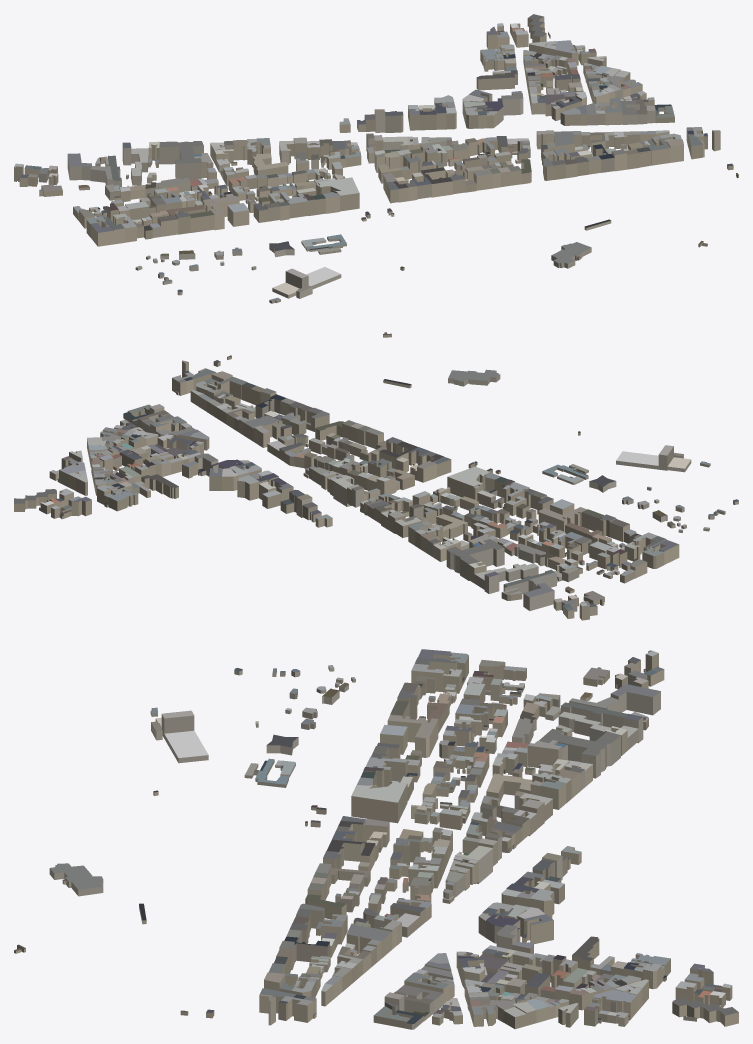
3 views of the same model, one above another, from view 1: azimuth 30°, elevation 25°; view 2: azimuth 150°, elevation 25°; view 3: azimuth 270°, elevation 25° (orthographic). The views are drawn at different scales.
Visible parts, largest first — view 1: tuile; view 2: tuile; view 3: tuile.
Part boxes in pixels (box(x1,y1,x2,y2)): tuile: box(14, 14, 738, 303); tuile: box(14, 332, 738, 620); tuile: box(14, 649, 738, 1029).
Size of the model in its own units: 1025 by 43.18 by 862.
